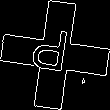P_S: (33, 27, 77, 83)
